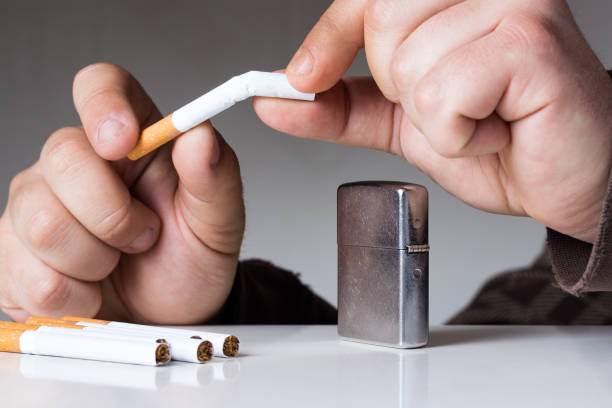cigarette: (123, 68, 316, 162), (59, 311, 242, 360), (25, 319, 214, 365), (0, 328, 172, 366), (26, 314, 203, 340), (0, 319, 169, 346)
